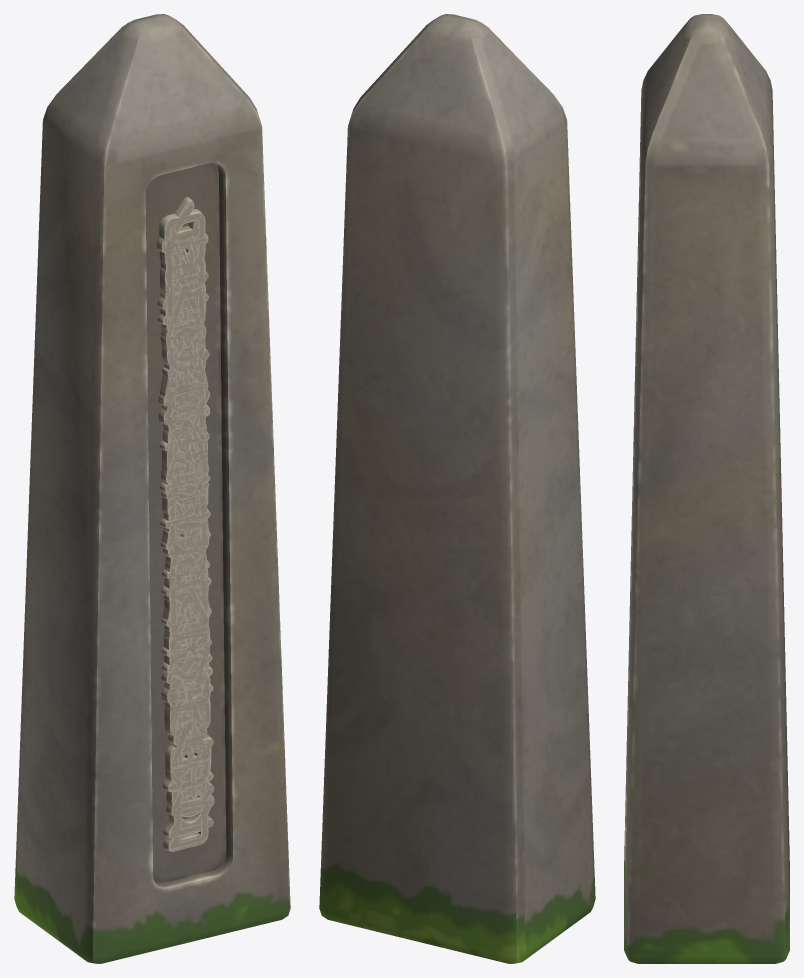
File: props_hitos.glb
3 renders of one model, left to right at view 1: azimuth 30°, elevation 25°; view 2: azimuth 150°, elevation 25°; view 3: azimuth 270°, elevation 25°, orthographic.
Parts seen in each view (by area): view 1: Prop_HitoPortal, Prop_HitoPortal_Runas_section4_es, Prop_HitoPortal_Runas_freebies_en, Prop_HitoPortal_Runas_section3_es, Prop_HitoPortal_Runas_section5_es, Prop_HitoPortal_Runas_teclado_en, Prop_HitoPortal_Runas_section5_en, Prop_HitoPortal_Runas_section4_en, Prop_HitoPortal_Runas_cerillos_es, Prop_HitoPortal_Runas_teclado_es, Prop_HitoPortal_Runas_section2_es, Prop_HitoPortal_Runas_cerillos_en (+7 smaller); view 2: Prop_HitoPortal; view 3: Prop_HitoPortal.
Boxes of the visible parts, <box> form: Prop_HitoPortal: <box>14,14,290,963</box>; Prop_HitoPortal_Runas_section4_es: <box>159,231,210,817</box>; Prop_HitoPortal_Runas_freebies_en: <box>159,209,214,838</box>; Prop_HitoPortal_Runas_section3_es: <box>160,235,211,816</box>; Prop_HitoPortal_Runas_section5_es: <box>156,203,214,849</box>; Prop_HitoPortal_Runas_teclado_en: <box>159,215,213,835</box>; Prop_HitoPortal_Runas_section5_en: <box>156,197,214,851</box>; Prop_HitoPortal_Runas_section4_en: <box>160,272,211,775</box>; Prop_HitoPortal_Runas_cerillos_es: <box>161,260,213,791</box>; Prop_HitoPortal_Runas_teclado_es: <box>160,270,212,782</box>; Prop_HitoPortal_Runas_section2_es: <box>157,252,213,796</box>; Prop_HitoPortal_Runas_cerillos_en: <box>157,261,212,791</box>; Prop_HitoPortal: <box>319,14,595,963</box>; Prop_HitoPortal: <box>624,14,789,963</box>.
Bounding box in the file's own units: 0.3988 × 1.67 × 0.279.
1 material, 1 textured.
